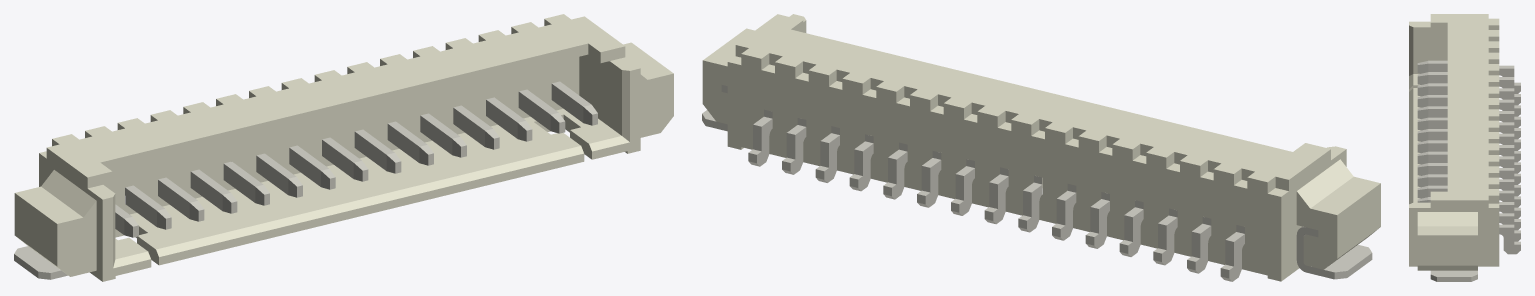
File: kc-molex_picoblade_53261-1571_1x15-1mp_p1.25mm_horizontal.glb
3 views of the same model, side by side, from view 1: azimuth 30°, elevation 25°; view 2: azimuth 150°, elevation 25°; view 3: azimuth 270°, elevation 25° (orthographic). The views are drawn at different scales.
Visible parts, largest first — view 1: 0.75_0.75_0.5833333333333334_0, 0.6666666666666666_0.6666666666666666_0.5833333333333334_0.8; view 2: 0.75_0.75_0.5833333333333334_0, 0.6666666666666666_0.6666666666666666_0.5833333333333334_0.8; view 3: 0.75_0.75_0.5833333333333334_0, 0.6666666666666666_0.6666666666666666_0.5833333333333334_0.8.
Boxes of the visible parts, x1,y1,x2,y2 form: 0.75_0.75_0.5833333333333334_0: [14, 14, 673, 281]; 0.6666666666666666_0.6666666666666666_0.5833333333333334_0.8: [14, 81, 597, 279]; 0.75_0.75_0.5833333333333334_0: [702, 14, 1380, 281]; 0.6666666666666666_0.6666666666666666_0.5833333333333334_0.8: [702, 85, 1372, 281]; 0.75_0.75_0.5833333333333334_0: [1409, 14, 1499, 270]; 0.6666666666666666_0.6666666666666666_0.5833333333333334_0.8: [1417, 60, 1520, 281].
Bounding box in the file's own units: 2.39 × 0.34 × 0.52.
